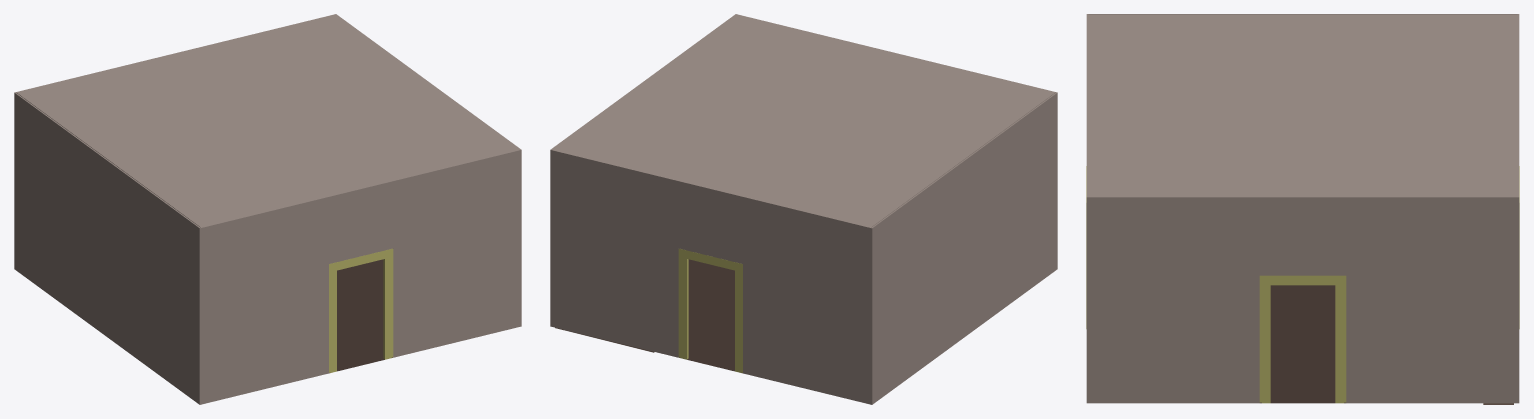
The model's file is Room23_GameRoom.fbx.
The picture shows the model from 3 angles, left to right: view 1: azimuth 30°, elevation 25°; view 2: azimuth 150°, elevation 25°; view 3: azimuth 270°, elevation 25°; orthographic projection. The views are drawn at different scales.
Parts seen in each view (by area): view 1: Roof, WallSlicedPosZ, WallPosX, WallSlicedPosZ2, WallPosX12, Floor, DoorFramePosZ, WallSlicedNegX; view 2: Roof, WallSlicedNegZ, WallPosX, WallSlicedNegZ9, WallPosX12, Floor, DoorFrameNegZ, WallSlicedNegX; view 3: Roof, WallSlicedNegX, WallSlicedNegX20, Floor, DoorFrameNegX, WallSlicedNegZ, WallSlicedPosZ, WallPosX.
Boxes of the visible parts, box(x1,y1,x2,y2) form: Roof: box(17, 15, 519, 227); WallSlicedPosZ: box(200, 149, 521, 364); WallPosX: box(14, 92, 200, 364); WallSlicedPosZ2: box(200, 286, 521, 404); WallPosX12: box(14, 229, 201, 404); Floor: box(329, 259, 392, 373); DoorFramePosZ: box(329, 248, 393, 372); WallSlicedNegX: box(336, 14, 521, 286); Roof: box(552, 15, 1054, 227); WallSlicedNegZ: box(550, 149, 871, 364); WallPosX: box(871, 92, 1057, 364); WallSlicedNegZ9: box(550, 286, 871, 404); WallPosX12: box(870, 229, 1057, 404); Floor: box(679, 259, 742, 373); DoorFrameNegZ: box(678, 248, 742, 372); WallSlicedNegX: box(550, 14, 735, 286); Roof: box(1088, 15, 1517, 196); WallSlicedNegX: box(1086, 196, 1519, 355); WallSlicedNegX20: box(1086, 356, 1519, 403); Floor: box(1260, 285, 1345, 403); DoorFrameNegX: box(1259, 275, 1346, 403); WallSlicedNegZ: box(1517, 14, 1519, 355); WallSlicedPosZ: box(1086, 14, 1088, 355); WallPosX: box(1087, 14, 1518, 14).
Size of the model in its own units: 801 by 426 by 800.
